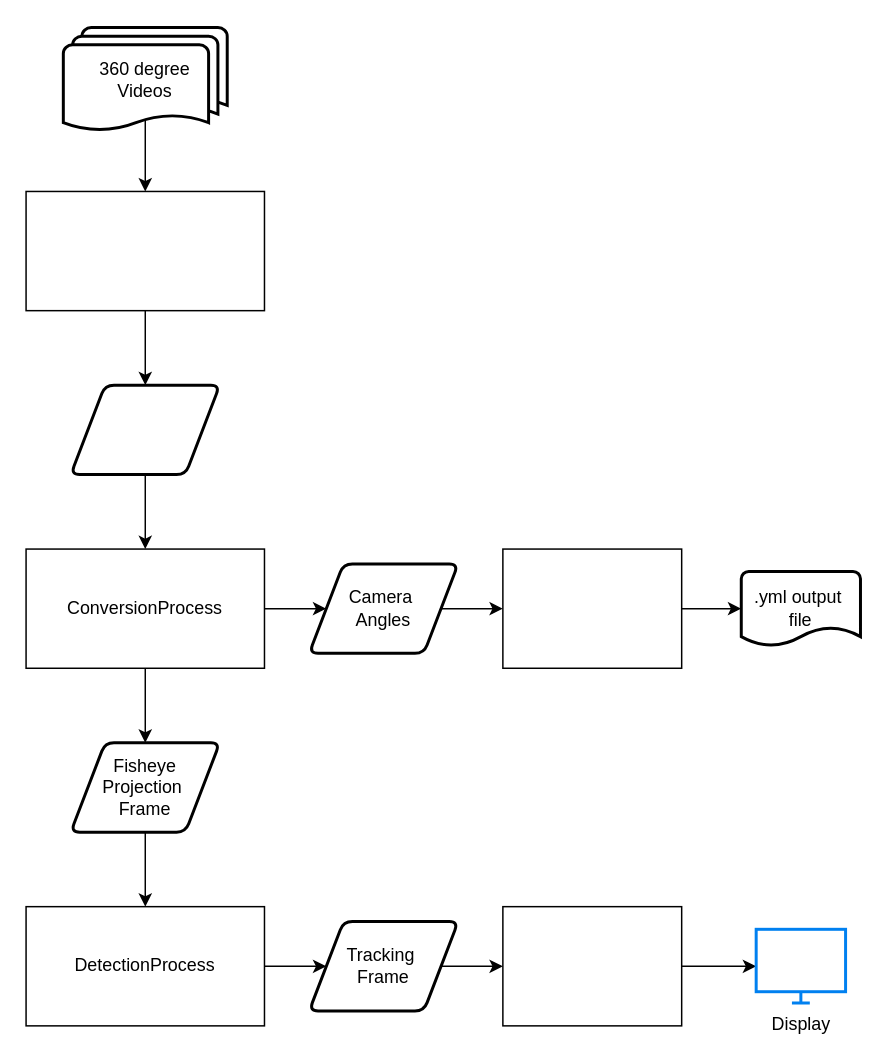
This 888x1059 diagram has some shape labels left out. Each missing label, with the centre of its shape:
360 Video Frame: (145,429)
ExportProcess: (591,608)
ReadProcess: (144,250)
VideoProcess: (591,965)
